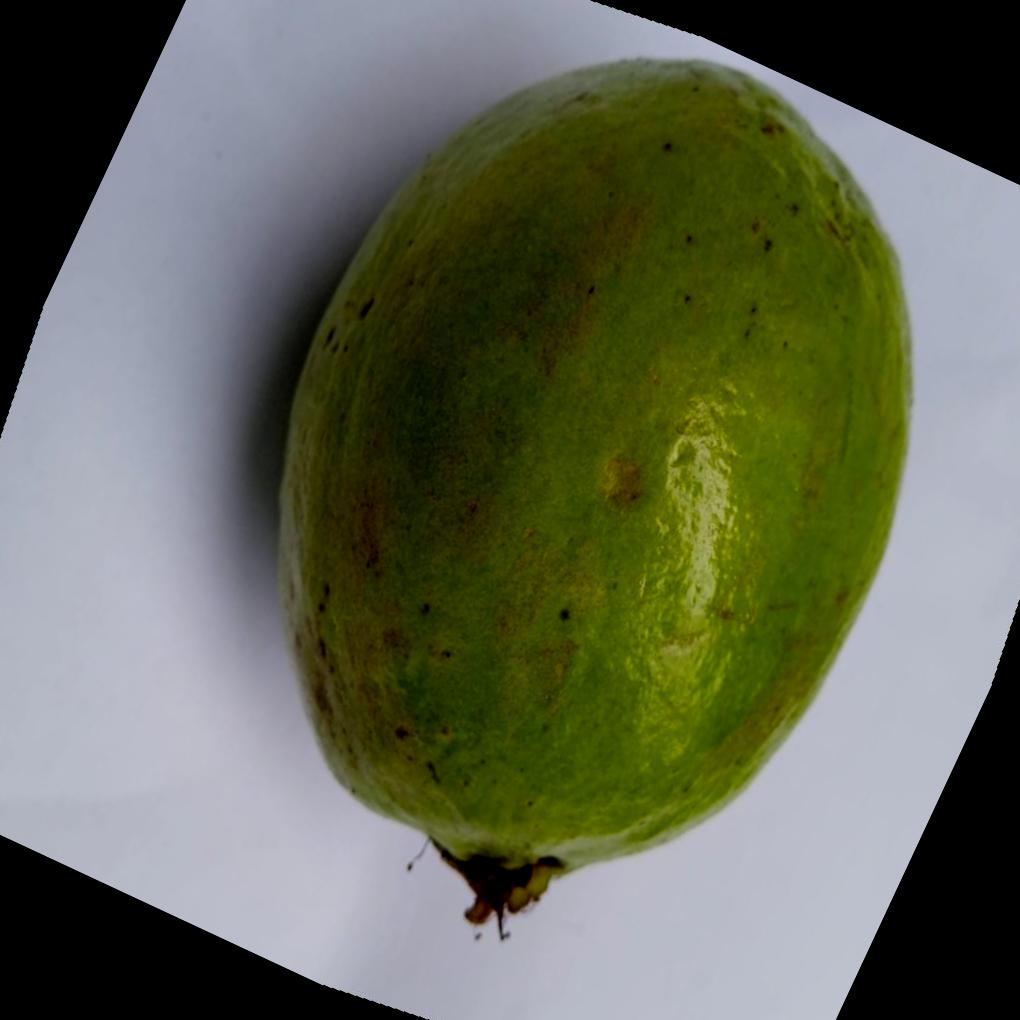FreshGuava: (272, 56, 912, 927)
